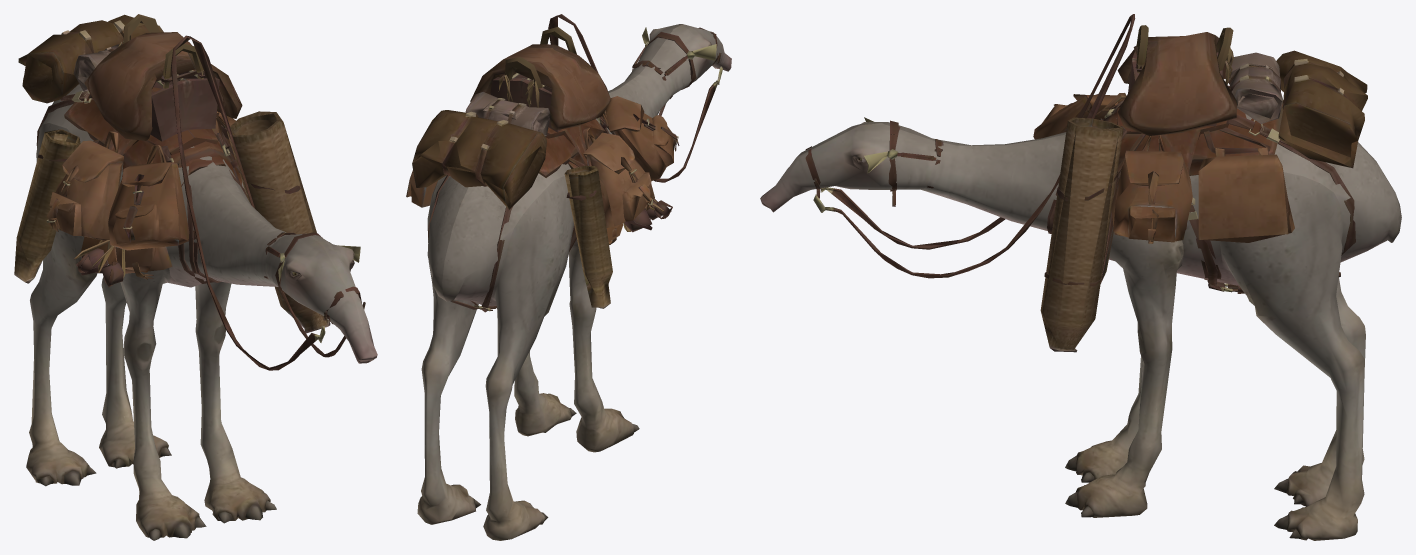
Rendered from eopie.glb.
3 views of the same model, side by side, from view 1: azimuth 30°, elevation 25°; view 2: azimuth 150°, elevation 25°; view 3: azimuth 270°, elevation 25° (orthographic). The views are drawn at different scales.
Visible parts, largest first — view 1: Object_8, Object_7; view 2: Object_7, Object_8; view 3: Object_7, Object_8.
Part boxes in pixels (bbox=[...]): Object_8: bbox=[14, 14, 365, 370]; Object_7: bbox=[26, 84, 377, 540]; Object_7: bbox=[417, 24, 731, 540]; Object_8: bbox=[406, 14, 722, 312]; Object_7: bbox=[760, 114, 1401, 540]; Object_8: bbox=[805, 14, 1367, 352].
Size of the model in its own units: 1.21 by 2.5 by 2.9.
2 materials, 2 textured.
